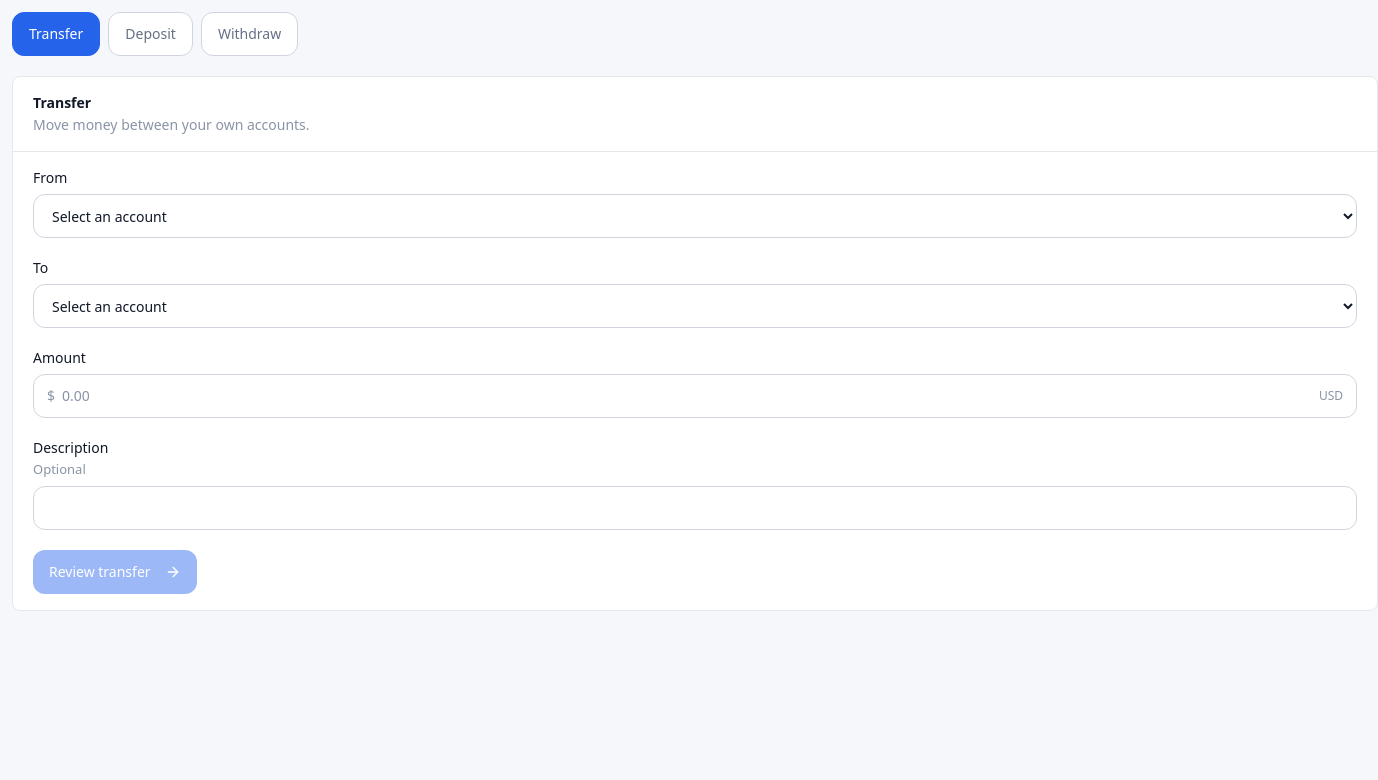
Test: an outcome nobody knows › does not claim the payment failed or succeeded
Select "Checking ••••2024 — $11,131.99" in the dropdown labelled "From" at (695, 216), box [33,194,1357,238]
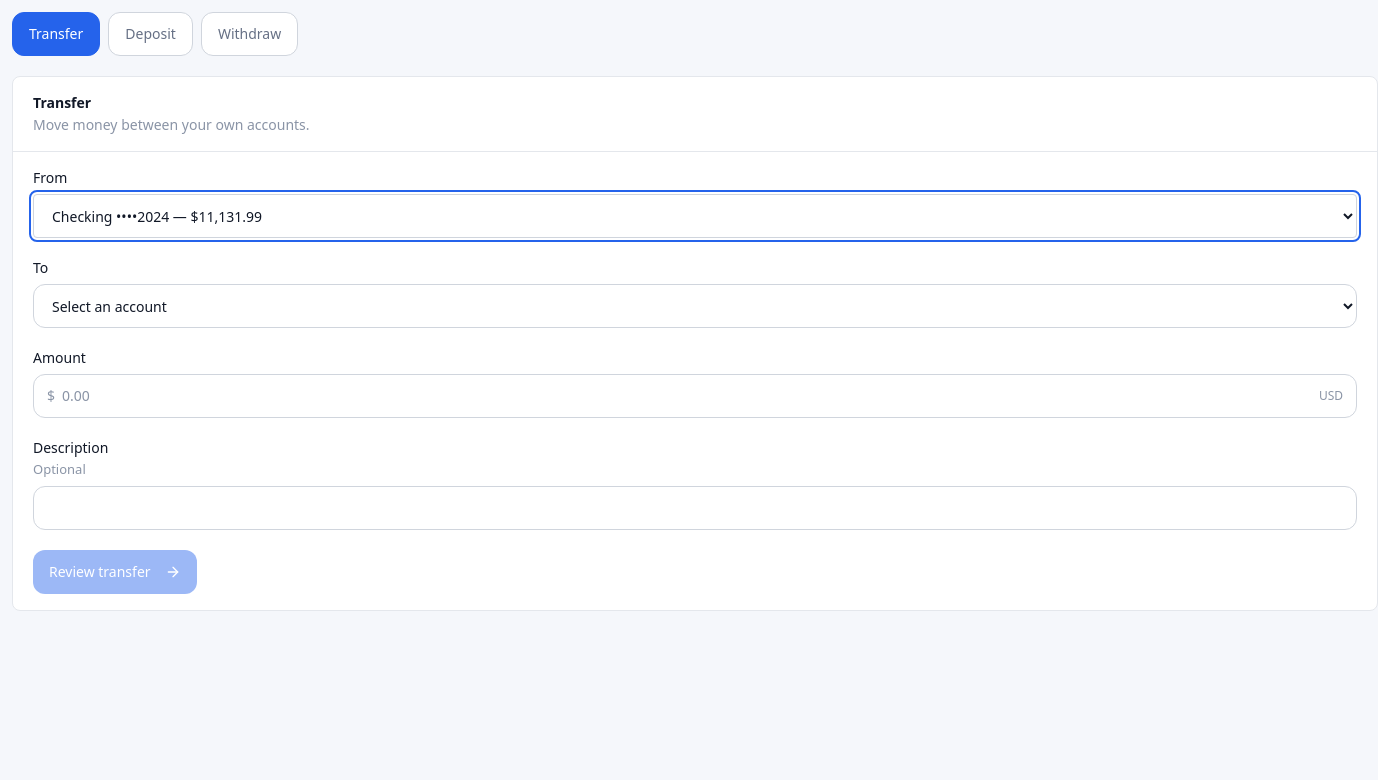
Select "Savings ••••9716 — $16,714.18" in the dropdown labelled "To" at (695, 306), box [33,284,1357,328]
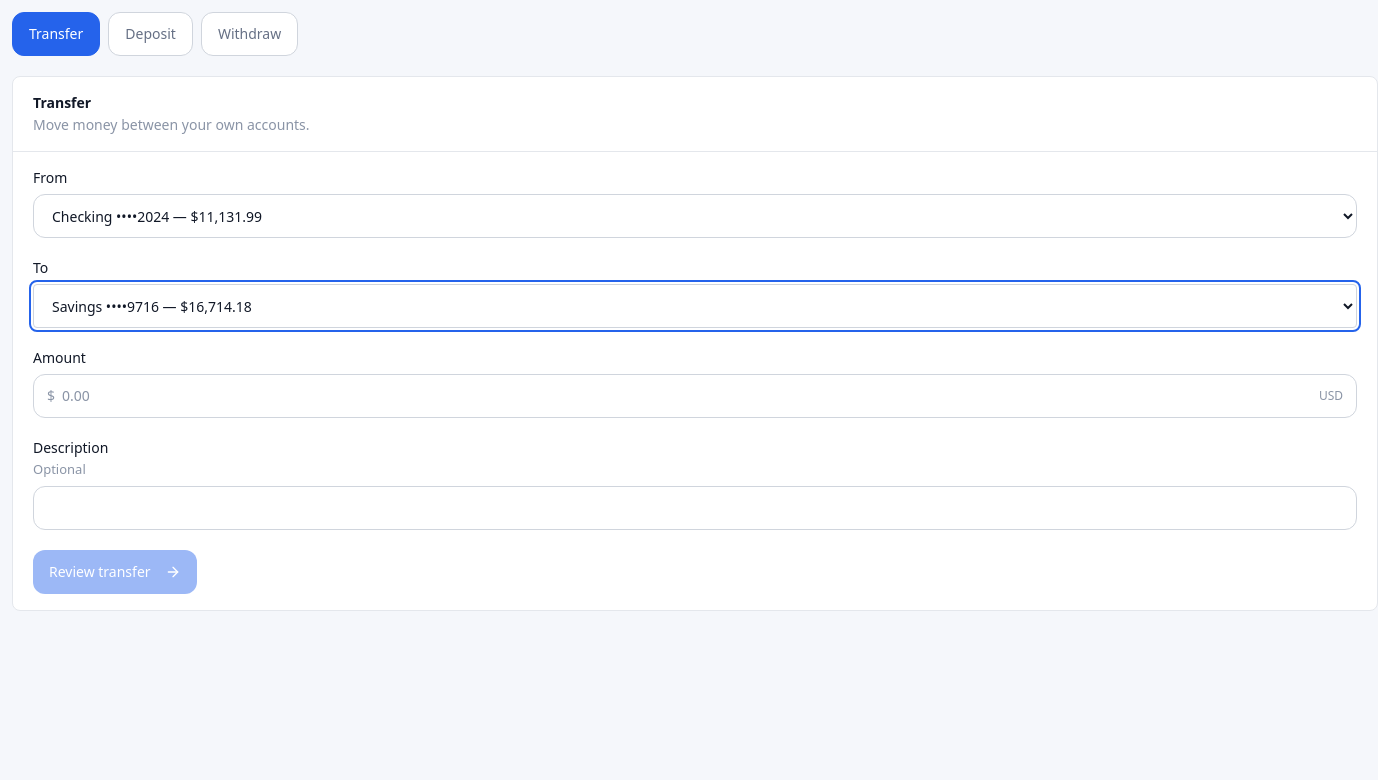
Type "25.00" into the field labelled "Amount".
click(695, 396); type("25.00")  # box [33,374,1357,418]
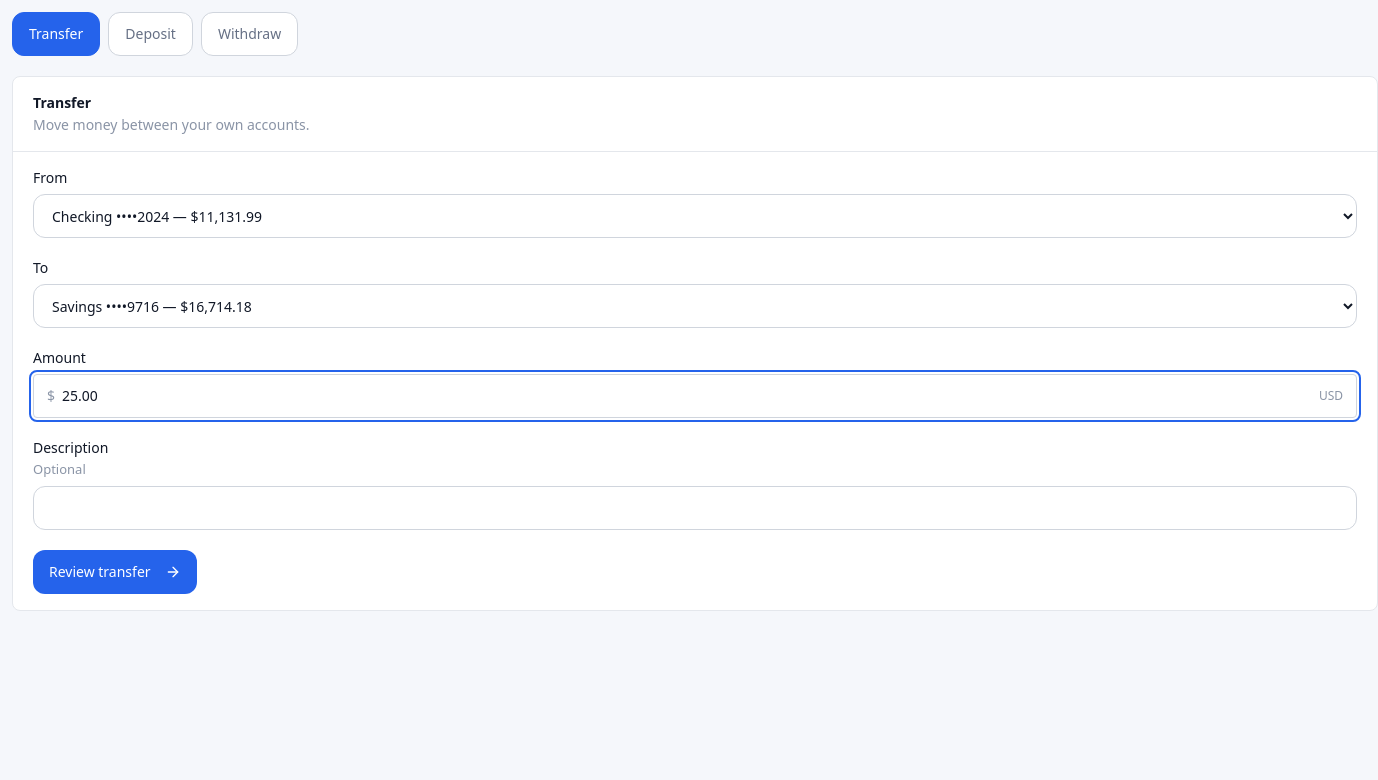
Click the button "Review transfer".
click(115, 572)  # box [33,550,197,594]
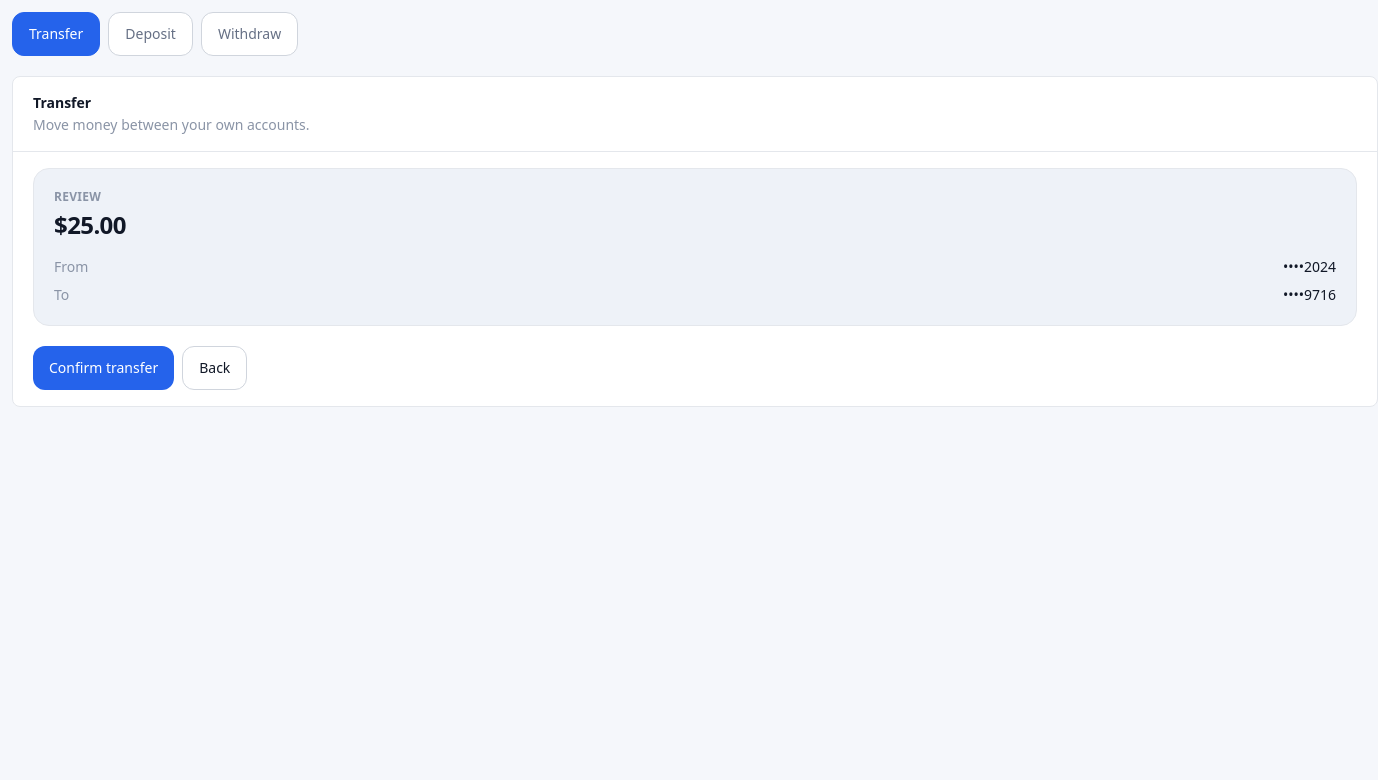
Click the button "Confirm transfer".
click(104, 368)  # box [33,346,174,390]
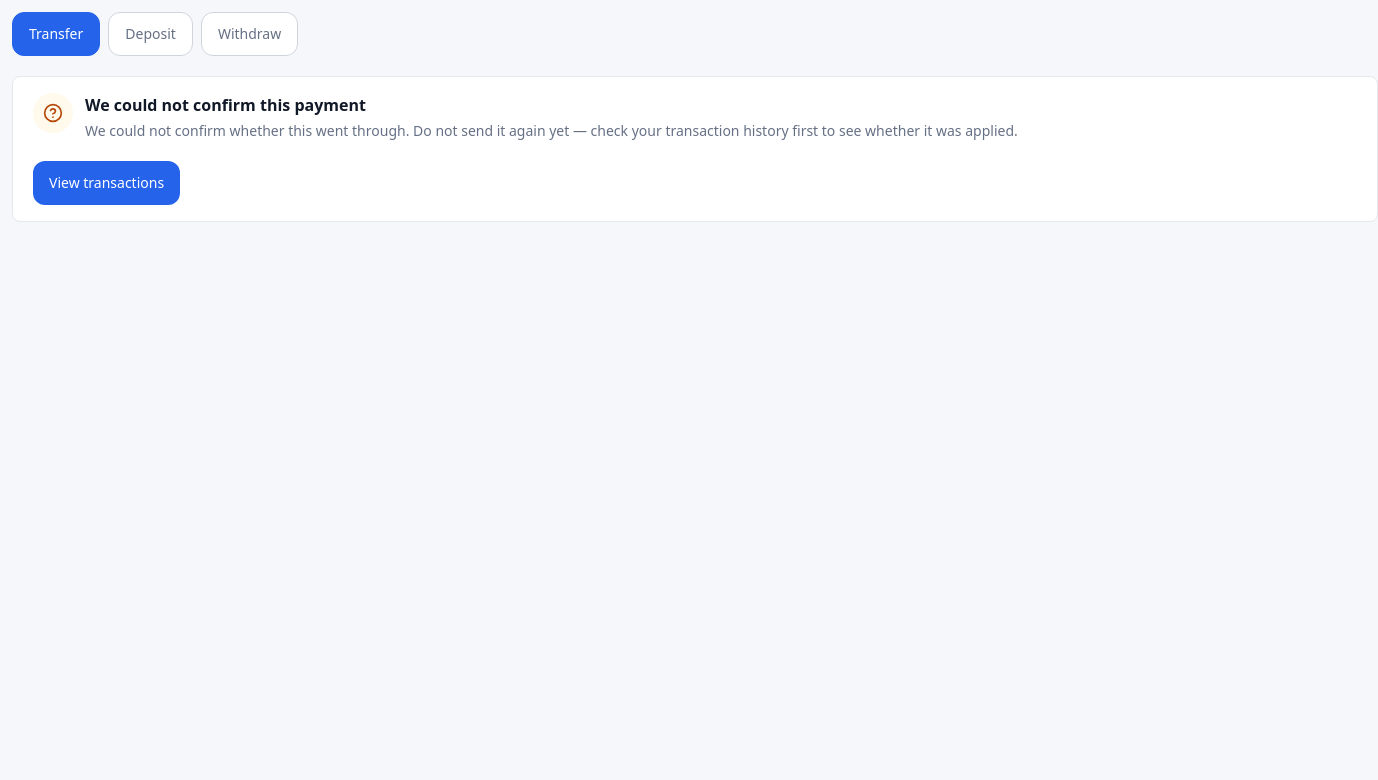
Expected: the element with test id "unresolved" shows "We could not confirm this payment", [85,94,366,116]
